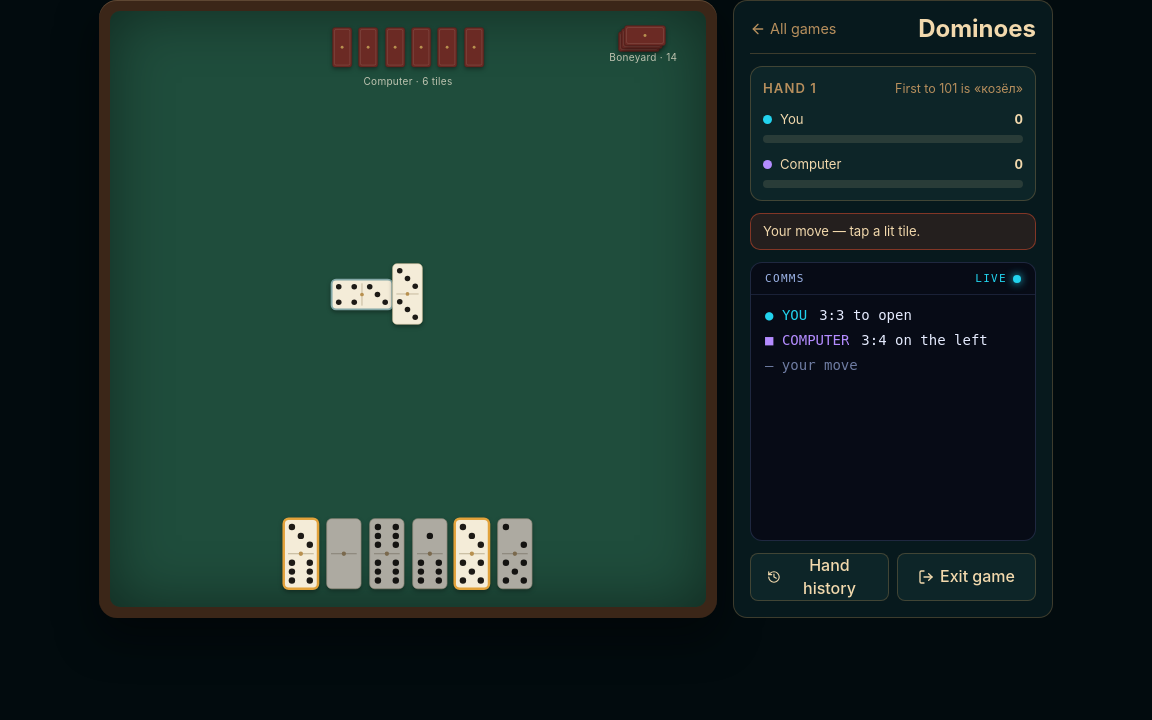
DominoesPage, against the computer › lays a tile that fits one end at a tap, and the computer answers
The width and height of the screenshot is (1152, 720).
Click the button named "3:6, fits" at (301, 553), box [283, 518, 319, 589]
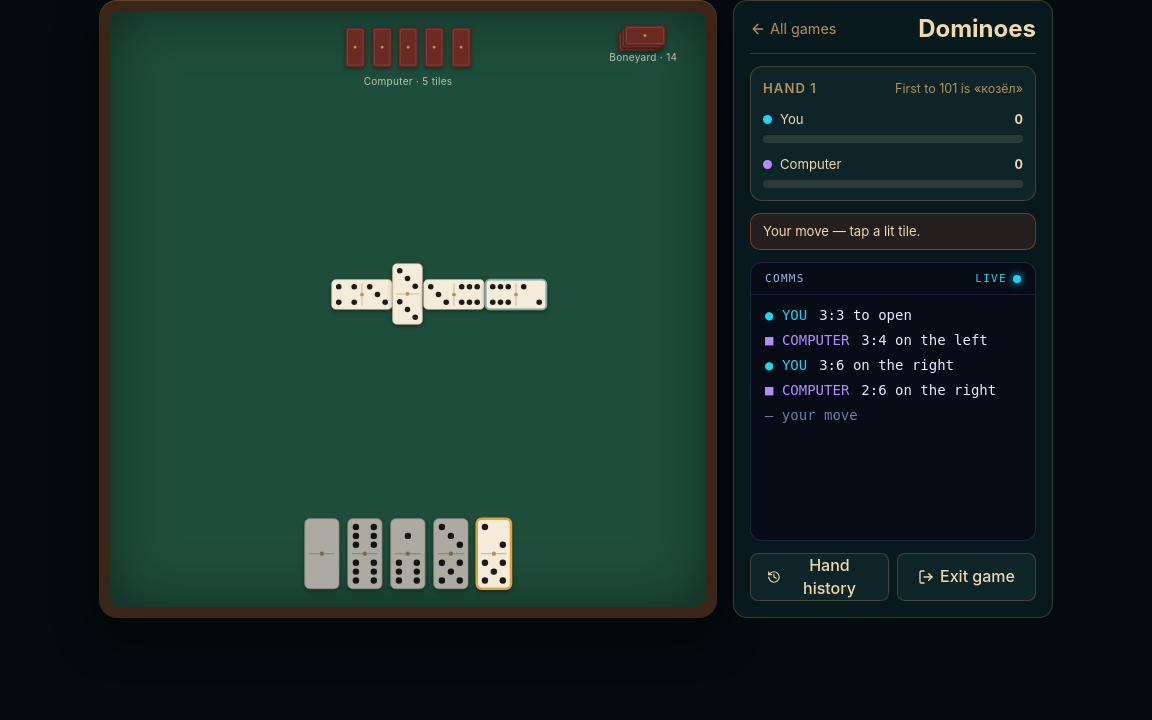
Expected: the button named "0:0" is disabled, [304, 518, 340, 589]
Now the button named "3:5" is disabled, box [433, 518, 469, 589]
